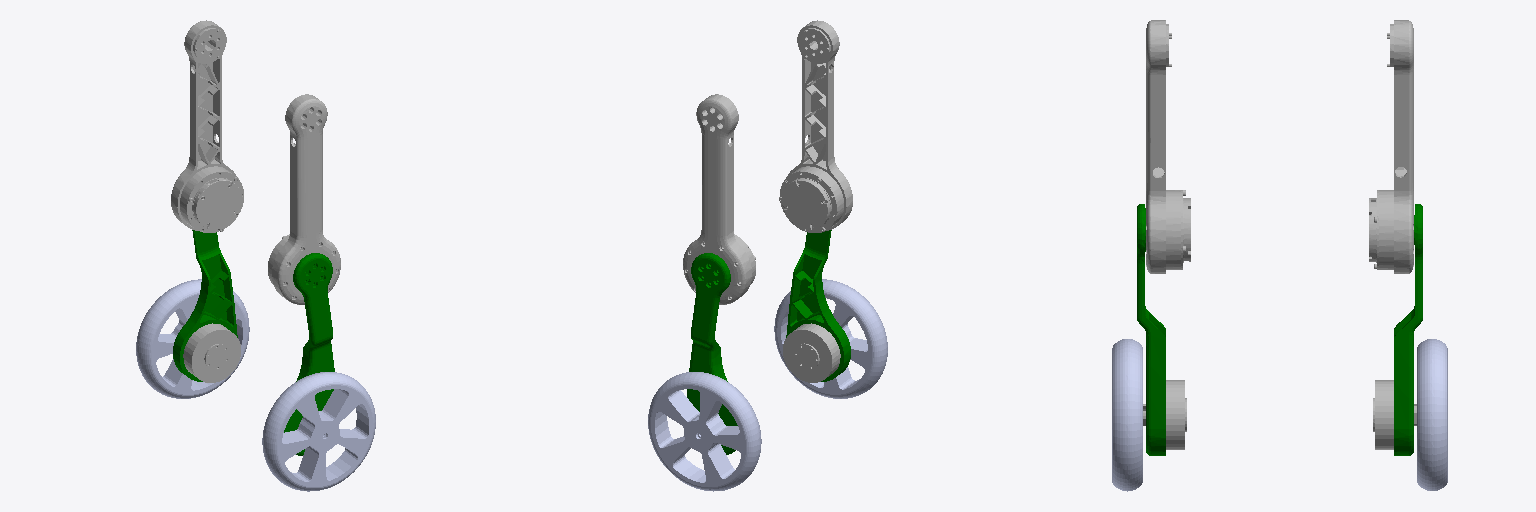
URDF robot description (q1):
<?xml version="1.0" encoding="utf-8"?>
<!-- This URDF was automatically created by SolidWorks to URDF Exporter! Originally created by Stephen Brawner (brawner@gmail.com) 
     Commit Version: 1.6.0-1-g15f4949  Build Version: 1.6.7594.29634
     For more information, please see http://wiki.ros.org/sw_urdf_exporter -->
<robot name="q1">
  <link name="trunk">
    <inertial>
      <origin xyz="0.00000000145 0.00000000000 0.00000000125" rpy="0 0 0" />
      <mass value="4.13466807" />
      <inertia ixx="0.01999067469952" ixy="-0.00000226271711" ixz="0.00039246428132" iyy="0.02967018362844" iyz="-0.00009899456249" izz="0.04147665133252" />
    </inertial>
    <visual>
      <origin xyz="0 0 0" rpy="0 0 0" />
      <geometry>
        <mesh filename="../meshes/trunk.STL" />
      </geometry>
      <material name="">
        <color rgba="0.75294 0.75294 0.75294 1" />
      </material>
    </visual>
    <collision name="trunk_box">
      <origin xyz="-0.025225 -0.0007275 0.0033861" rpy="0 0 0" />
      <geometry>
        <box size="0.280343 0.220002 0.154902" />
      </geometry>
    </collision>
  </link>
  <link name="L_thigh">
    <inertial>
      <origin xyz="-0.00001043924 0.00550292020 -0.17510422491" rpy="0 0 0" />
      <mass value="0.50548572" />
      <inertia ixx="0.00205835974201" ixy="-0.00000002166583" ixz="-0.00000032778085" iyy="0.00218418251412" iyz="-0.00010015857512" izz="0.00029128648184" />
    </inertial>
    <visual>
      <origin xyz="0 0 0" rpy="0 0 0" />
      <geometry>
        <mesh filename="../meshes/L_thigh.STL" />
      </geometry>
      <material name="">
        <color rgba="0.75294 0.75294 0.75294 1" />
      </material>
    </visual>
    <collision name="L_thigh_box">
      <origin xyz="0 0.0115 -0.08775" rpy="0 0 0" />
      <geometry>
        <box size="0.035 0.015 0.2245" />
      </geometry>
    </collision>
    <collision name="L_thigh_knee_motor">
      <origin xyz="0 0.00175 -0.2" rpy="1.570796326794897 0 0" />
      <geometry>
        <cylinder radius="0.04299" length="0.032" />
      </geometry>
    </collision>
  </link>
  <joint name="L_thigh_joint" type="revolute">
    <origin xyz="-0.025225 0.10727 0.0084361" rpy="0 0 0" />
    <parent link="trunk" />
    <child link="L_thigh" />
    <axis xyz="0 1 0" />
    <limit lower="-1.57" upper="1.57" effort="17" velocity="30" />
  </joint>
  <link name="L_calf">
    <inertial>
      <origin xyz="0.00487533180 0.00097181840 -0.12498056615" rpy="0 0 0" />
      <mass value="0.10185666" />
      <inertia ixx="0.00066675995097" ixy="0.00000023496165" ixz="-0.00000466842220" iyy="0.00069924884377" iyz="-0.00004019672618" izz="0.00004357765239" />
    </inertial>
    <visual>
      <origin xyz="0 0 0" rpy="0 0 0" />
      <geometry>
        <mesh filename="../meshes/L_calf.STL" />
      </geometry>
      <material name="">
        <color rgba="0 0.50196 0 1" />
      </material>
    </visual>
    <collision name="L_calf_upper_box">
      <origin xyz="0.00683918 0.009 -0.0475" rpy="0 -0.143 0" />
      <geometry>
        <box size="0.030 0.008 0.09597967" />
      </geometry>
    </collision>
    <collision name="L_calf_lower_box">
      <origin xyz="0.0144369 -0.006625 -0.150" rpy="0 0 0" />
      <geometry>
        <box size="0.03029 0.01875 0.100" />
      </geometry>
    </collision>
  </link>
  <joint name="L_calf_joint" type="revolute">
    <origin xyz="0 0.02 -0.2" rpy="0 0 0" />
    <parent link="L_thigh" />
    <child link="L_calf" />
    <axis xyz="0 1 0" />
    <limit lower="-2.6" upper="0" effort="17" velocity="30" />
  </joint>
  <link name="L_footmotor">
    <inertial>
      <origin xyz="0.00011783755 0.01883176344 0.00002447735" rpy="0 0 0" />
      <mass value="0.36000000" />
      <inertia ixx="0.00013534021874" ixy="-0.00000000343629" ixz="-0.00000000003820" iyy="0.00020055446963" iyz="0.00000006814912" izz="0.00013534097442" />
    </inertial>
    <visual>
      <origin xyz="0 0 0" rpy="0 0 0" />
      <geometry>
        <mesh filename="../meshes/L_footmotor.STL" />
      </geometry>
      <material name="">
        <color rgba="0.75294 0.75294 0.75294 1" />
      </material>
    </visual>
    <collision name="L_footmotor_housing">
      <origin xyz="0 0.02225 0" rpy="1.570796326794897 0 0" />
      <geometry>
        <cylinder radius="0.03394" length="0.04" />
      </geometry>
    </collision>
  </link>
  <joint name="L_footmotor_fixed" type="fixed">
    <origin xyz="0 -0.0365 -0.2" rpy="0 0 0" />
    <parent link="L_calf" />
    <child link="L_footmotor" />
  </joint>
  <link name="L_foot">
    <inertial>
      <origin xyz="0.00011722375 -0.01483535182 0.00003217568" rpy="0 0 0" />
      <mass value="0.40000000" />
      <inertia ixx="0.00066414865924" ixy="0.00000000024576" ixz="-0.00000003443808" iyy="0.00127413603898" iyz="-0.00000000022861" izz="0.00066413799713" />
    </inertial>
    <visual>
      <origin xyz="0 0 0" rpy="0 0 0" />
      <geometry>
        <mesh filename="../meshes/L_foot.STL" />
      </geometry>
      <material name="">
        <color rgba="0.79216 0.81961 0.93333 1" />
      </material>
    </visual>
    <collision name="L_wheel">
      <origin xyz="0 -0.015 0" rpy="1.570796326794897 0 0" />
      <geometry>
        <cylinder radius="0.07496" length="0.02999" />
      </geometry>
    </collision>
  </link>
  <joint name="L_foot_joint" type="revolute">
    <origin xyz="0 0.0735 0" rpy="0 0 0" />
    <parent link="L_footmotor" />
    <child link="L_foot" />
    <axis xyz="0 1 0" />
    <limit effort="6" velocity="30" lower="-99999" upper="99999" />
  </joint>
  <link name="R_thigh">
    <inertial>
      <origin xyz="0.00041080871 -0.00435052271 -0.17630379234" rpy="0 0 0" />
      <mass value="0.50234410" />
      <inertia ixx="0.00207814248370" ixy="-0.00000027195630" ixz="0.00000698987558" iyy="0.00220526442349" iyz="0.00010421252634" izz="0.00029123898685" />
    </inertial>
    <visual>
      <origin xyz="0 0 0" rpy="0 0 0" />
      <geometry>
        <mesh filename="../meshes/R_thigh.STL" />
      </geometry>
      <material name="">
        <color rgba="0.75294 0.75294 0.75294 1" />
      </material>
    </visual>
    <collision name="R_thigh_box">
      <origin xyz="0 -0.0115 -0.08775" rpy="0 0 0" />
      <geometry>
        <box size="0.035 0.015 0.2245" />
      </geometry>
    </collision>
    <collision name="R_thigh_knee_motor">
      <origin xyz="0 -0.00075 -0.2" rpy="1.570796326794897 0 0" />
      <geometry>
        <cylinder radius="0.04299" length="0.032" />
      </geometry>
    </collision>
  </link>
  <joint name="R_thigh_joint" type="revolute">
    <origin xyz="-0.025225 -0.10873 0.0084361" rpy="0 0 0" />
    <parent link="trunk" />
    <child link="R_thigh" />
    <axis xyz="0 1 0" />
    <limit lower="-1.57" upper="1.57" effort="17" velocity="30" />
  </joint>
  <link name="R_calf">
    <inertial>
      <origin xyz="0.00469129253 -0.00094831238 -0.12014395298" rpy="0 0 0" />
      <mass value="0.10595604" />
      <inertia ixx="0.00072907400941" ixy="-0.00000026451932" ixz="-0.00000232425672" iyy="0.00076233835655" iyz="0.00004097048781" izz="0.00004438962248" />
    </inertial>
    <visual>
      <origin xyz="0 0 0" rpy="0 0 0" />
      <geometry>
        <mesh filename="../meshes/R_calf.STL" />
      </geometry>
      <material name="">
        <color rgba="0 0.50196 0 1" />
      </material>
    </visual>
    <collision name="R_calf_upper_box">
      <origin xyz="0.00683918 -0.009 -0.0475" rpy="0 -0.143 0" />
      <geometry>
        <box size="0.030 0.008 0.09597967" />
      </geometry>
    </collision>
    <collision name="R_calf_lower_box">
      <origin xyz="0.0144369 0.006625 -0.150" rpy="0 0 0" />
      <geometry>
        <box size="0.03029 0.01875 0.100" />
      </geometry>
    </collision>
  </link>
  <joint name="R_calf_joint" type="revolute">
    <origin xyz="0 -0.019 -0.2" rpy="0 0 0" />
    <parent link="R_thigh" />
    <child link="R_calf" />
    <axis xyz="0 1 0" />
    <limit lower="-2.6" upper="0" effort="17" velocity="30" />
  </joint>
  <link name="R_footmotor">
    <inertial>
      <origin xyz="0.00011364051 -0.01874750283 0.00002543207" rpy="0 0 0" />
      <mass value="0.36000000" />
      <inertia ixx="0.00013534038994" ixy="-0.00000003257731" ixz="0.00000000031862" iyy="0.00020055446963" iyz="-0.00000005995689" izz="0.00013534080322" />
    </inertial>
    <visual>
      <origin xyz="0 0 0" rpy="0 0 0" />
      <geometry>
        <mesh filename="../meshes/R_footmotor.STL" />
      </geometry>
      <material name="">
        <color rgba="0.75294 0.75294 0.75294 1" />
      </material>
    </visual>
    <collision name="R_footmotor_housing">
      <origin xyz="0 -0.02225 0" rpy="1.570796326794897 0 0" />
      <geometry>
        <cylinder radius="0.03394" length="0.04" />
      </geometry>
    </collision>
  </link>
  <joint name="R_footmotor_fixed" type="fixed">
    <origin xyz="0 0.0365 -0.2" rpy="0 0 0" />
    <parent link="R_calf" />
    <child link="R_footmotor" />
  </joint>
  <link name="R_foot">
    <inertial>
      <origin xyz="0.00011775746 0.01491961243 0.00003237158" rpy="0 0 0" />
      <mass value="0.40000000" />
      <inertia ixx="0.00066411021918" ixy="0.00000000003951" ixz="0.00000001087176" iyy="0.00127413603898" iyz="0.00000000033332" izz="0.00066417643720" />
    </inertial>
    <visual>
      <origin xyz="0 0 0" rpy="0 0 0" />
      <geometry>
        <mesh filename="../meshes/R_foot.STL" />
      </geometry>
      <material name="">
        <color rgba="0.79216 0.81961 0.93333 1" />
      </material>
    </visual>
    <collision name="R_wheel">
      <origin xyz="0 0.015 0" rpy="1.570796326794897 0 0" />
      <geometry>
        <cylinder radius="0.07496" length="0.02999" />
      </geometry>
    </collision>
  </link>
  <joint name="R_foot_joint" type="revolute">
    <origin xyz="0 -0.0735 0" rpy="0 0 0" />
    <parent link="R_footmotor" />
    <child link="R_foot" />
    <axis xyz="0 1 0" />
    <limit effort="6" velocity="30" lower="-99999" upper="99999" />
  </joint>
</robot>

--- Facts derived from the render (not from the file) ---
3 views of the same robot in one strip: view 1: azimuth 30°, elevation 25°; view 2: azimuth 150°, elevation 25°; view 3: azimuth 270°, elevation 25° (orthographic).
Model q1 with 9 links and 8 joints (6 revolute, 2 fixed), rooted at trunk, posed every joint at zero.
Links seen in each view (by area): view 1: R_foot, L_thigh, R_thigh, L_foot, R_calf, L_calf, L_footmotor; view 2: L_foot, R_thigh, L_thigh, R_foot, L_calf, R_calf, R_footmotor; view 3: L_thigh, R_thigh, R_foot, L_foot, R_calf, L_calf, L_footmotor, R_footmotor.
Boxes of the visible links, x1,y1,x2,y2 form: R_foot: (262, 372, 375, 491); L_thigh: (171, 20, 243, 232); R_thigh: (268, 94, 340, 304); L_foot: (136, 279, 249, 398); R_calf: (284, 253, 334, 455); L_calf: (173, 230, 237, 381); L_footmotor: (183, 323, 240, 382); L_foot: (648, 372, 761, 491); R_thigh: (779, 20, 852, 232); L_thigh: (683, 94, 755, 304); R_foot: (774, 279, 887, 398); L_calf: (687, 253, 737, 454); R_calf: (786, 230, 850, 381); R_footmotor: (783, 323, 840, 382); L_thigh: (1369, 20, 1413, 273); R_thigh: (1146, 20, 1190, 273); R_foot: (1112, 339, 1142, 491); L_foot: (1417, 339, 1447, 490); R_calf: (1137, 204, 1165, 455); L_calf: (1394, 204, 1422, 455); L_footmotor: (1373, 380, 1416, 449); R_footmotor: (1143, 380, 1186, 449).
Size in the robot's own frame: 0.15 by 0.329 by 0.4995 metres.
Meshes: 9 distinct files referenced, 8 mesh visuals loaded (8 binary STL); not drawn: 1 (reference not matched to a file when rendering).
